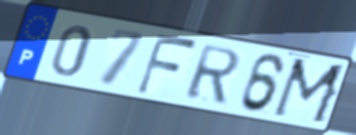0: (48, 23, 97, 78)
6: (238, 52, 286, 115)
7: (97, 26, 147, 88)
F: (133, 31, 200, 98)
M: (268, 56, 350, 127)
R: (183, 43, 244, 106)
